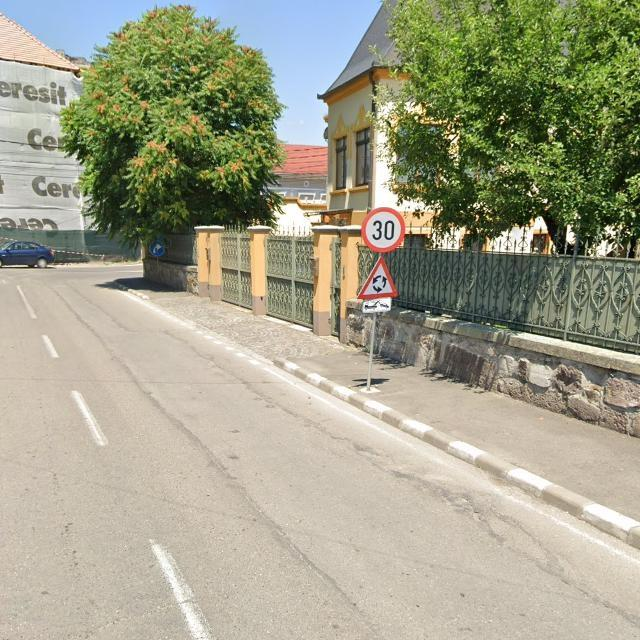forb_speed_over_30: (362, 207, 406, 252)
